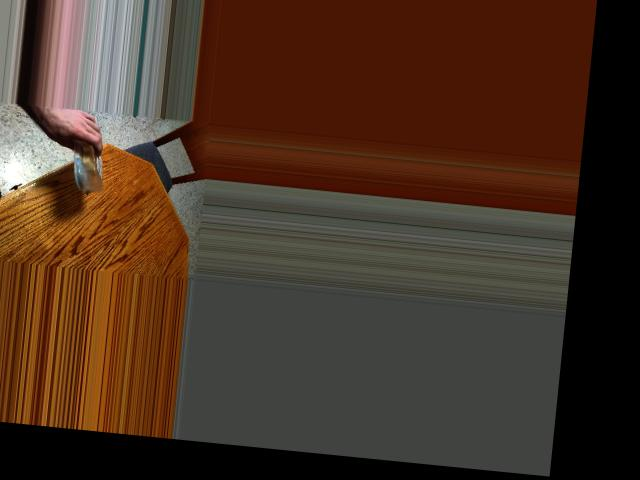cheese: (45, 122, 119, 195)
